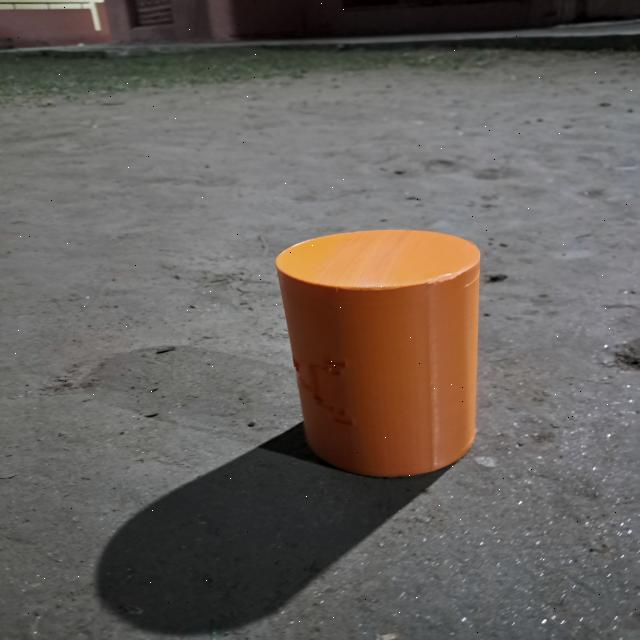Cylinder: (275, 228, 482, 478)
